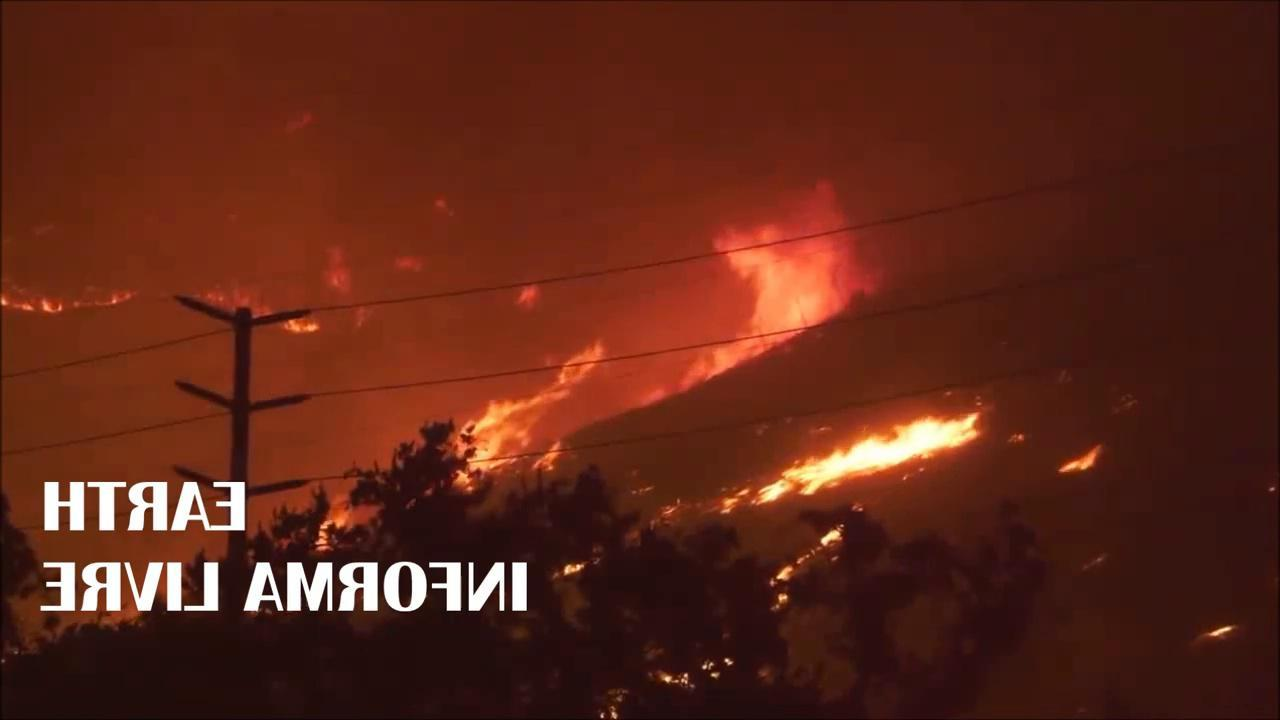Fire: (452, 347, 608, 484), (773, 411, 985, 494), (763, 507, 867, 609), (197, 278, 333, 334), (4, 277, 142, 317), (1054, 443, 1110, 480)
